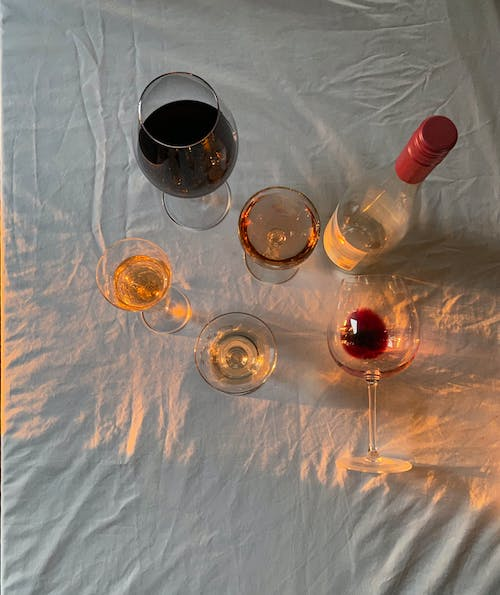alcohol: (322, 114, 459, 274), (325, 275, 423, 477), (133, 70, 240, 231), (94, 236, 191, 337), (237, 185, 321, 283), (192, 310, 279, 397)
